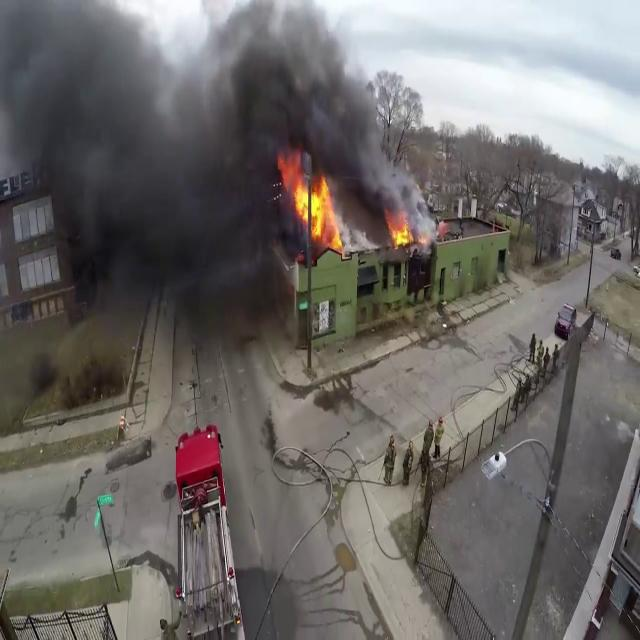Fire: (284, 161, 342, 251), (389, 216, 417, 251)
Smoke: (0, 0, 412, 282)
